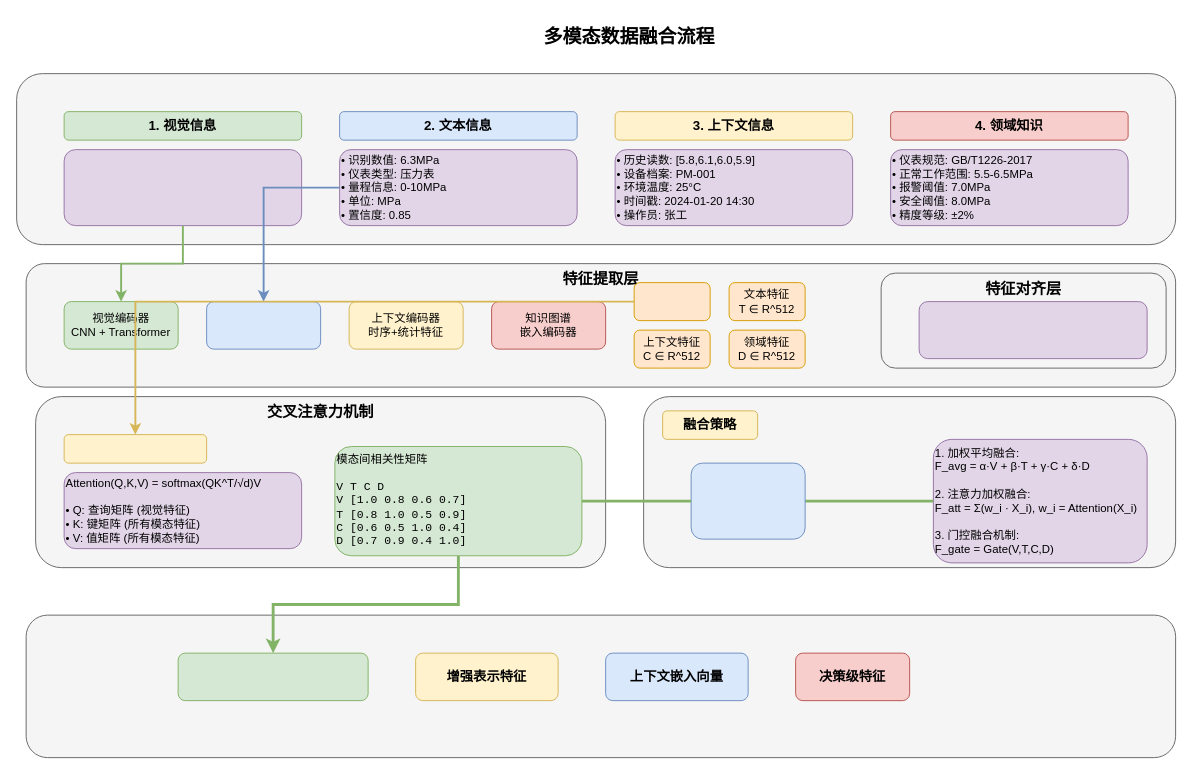
Image size: 1192x774. Some labels were removed from this diagram. Here are the shapes that lost their labels. From the top down, the box of each, then its label:
(16, 73, 1176, 245): 多模态输入数据源
(63, 149, 302, 226): • 仪表图像 (1920×1080) • 检测框坐标 [x,y,w,h] • 指针分割掩码 • 关键点位置坐标 • 图像质量评分: 0.89
(633, 282, 710, 321): 视觉特征 V ∈ R^512
(206, 301, 321, 349): 文本编码器 BERT-like
(918, 301, 1147, 359): 统一空间映射 • 线性投影层 • 归一化处理 • 维度对齐 R^512
(63, 434, 207, 463): 注意力权重计算
(690, 462, 805, 539): 权重分配: α=0.4 (视觉) β=0.3 (文本) γ=0.2 (上下文) δ=0.1 (领域)
(643, 396, 1176, 568): 特征融合层
(177, 652, 368, 701): 多模态融合特征 F_multimodal ∈ R^512
(25, 614, 1176, 758): 融合特征输出
